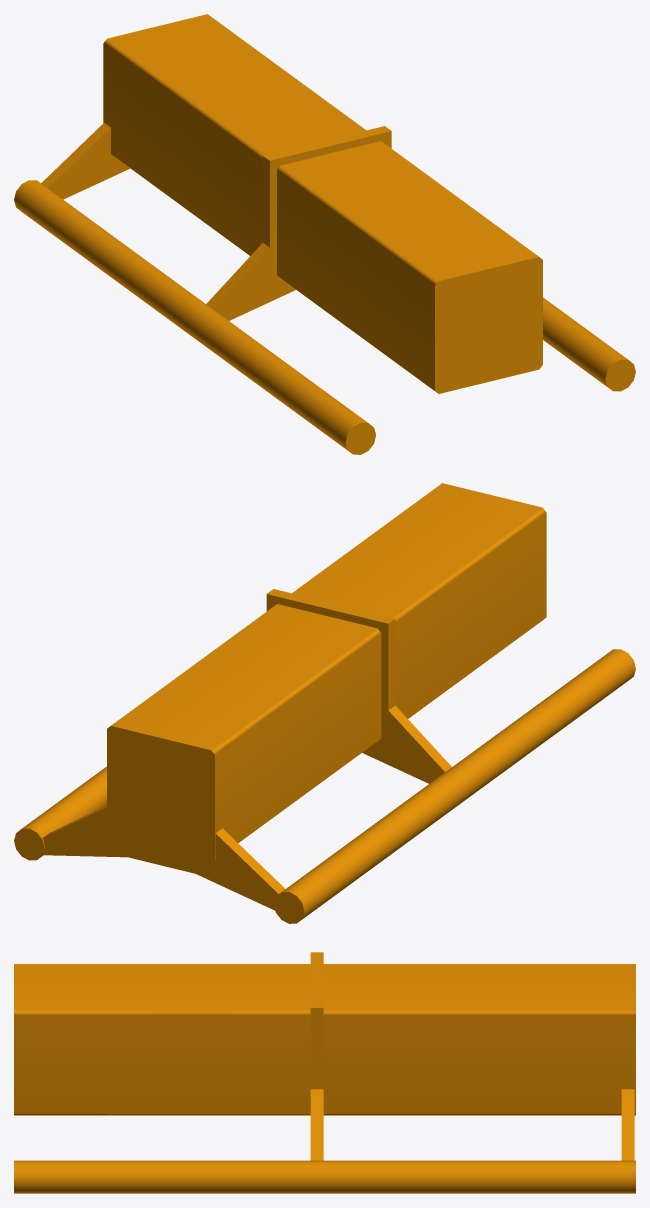
Rendered from box_track_inverted_mockup.fbx.
The picture shows the model from 3 angles, top to bottom: view 1: azimuth 30°, elevation 25°; view 2: azimuth 150°, elevation 25°; view 3: azimuth 270°, elevation 25°; orthographic projection. The views are drawn at different scales.
Parts seen in each view (by area): view 1: box_track_inverted_mockup; view 2: box_track_inverted_mockup; view 3: box_track_inverted_mockup.
Boxes of the visible parts, <box> form: box_track_inverted_mockup: <box>14,14,635,454</box>; box_track_inverted_mockup: <box>14,483,635,923</box>; box_track_inverted_mockup: <box>14,952,635,1193</box>.
Size of the model in its own units: 0.5057 by 0.2694 by 1.
